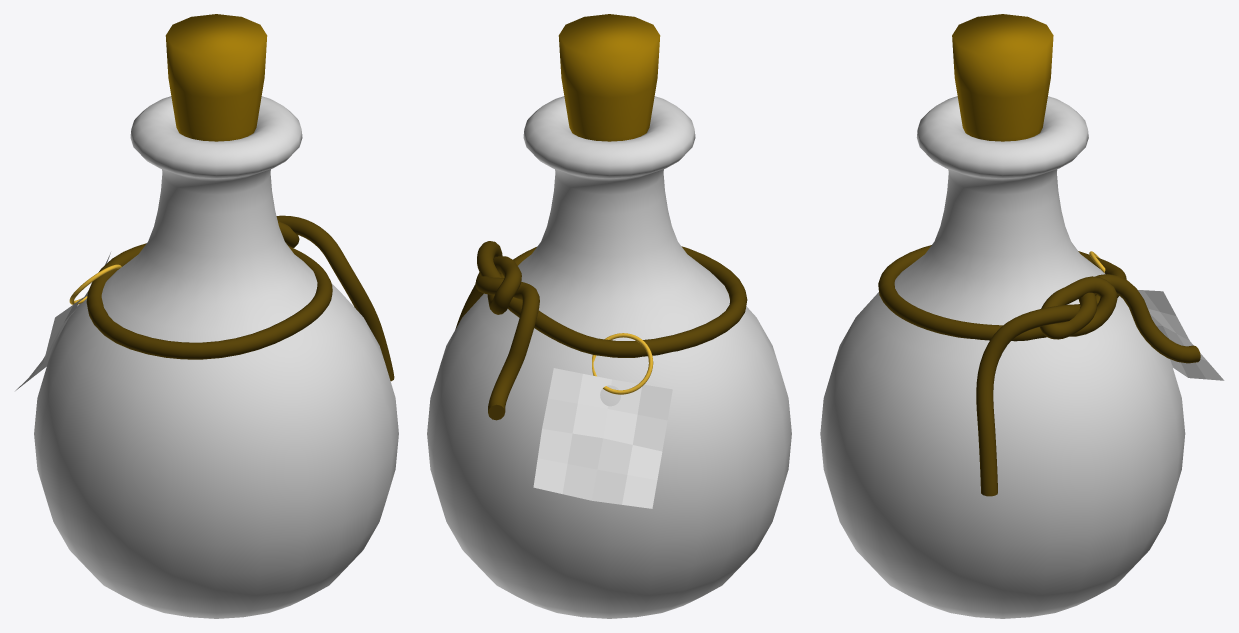
File: potionexport.fbx
3 views of the same model, side by side, from view 1: azimuth 30°, elevation 25°; view 2: azimuth 150°, elevation 25°; view 3: azimuth 270°, elevation 25° (orthographic).
Parts seen in each view (by area): view 1: Cylinder.001, Cylinder.002, NurbsPath, Plane; view 2: Cylinder.001, Plane, Cylinder.002, NurbsPath, BézierCircle; view 3: Cylinder.001, NurbsPath, Cylinder.002, Plane.
Part boxes in pixels (x1,y1,x2,y2): Cylinder.001: (34, 96, 398, 618); Cylinder.002: (165, 14, 267, 141); NurbsPath: (86, 215, 394, 381); Plane: (15, 252, 110, 390); Cylinder.001: (427, 96, 791, 618); Plane: (533, 368, 672, 508); Cylinder.002: (558, 14, 660, 141); NurbsPath: (455, 241, 747, 420); BézierCircle: (592, 333, 653, 394); Cylinder.001: (820, 96, 1185, 618); NurbsPath: (878, 245, 1200, 496); Cylinder.002: (952, 14, 1053, 141); Plane: (1138, 290, 1224, 380).
Size of the model in its own units: 175 by 282 by 187.
